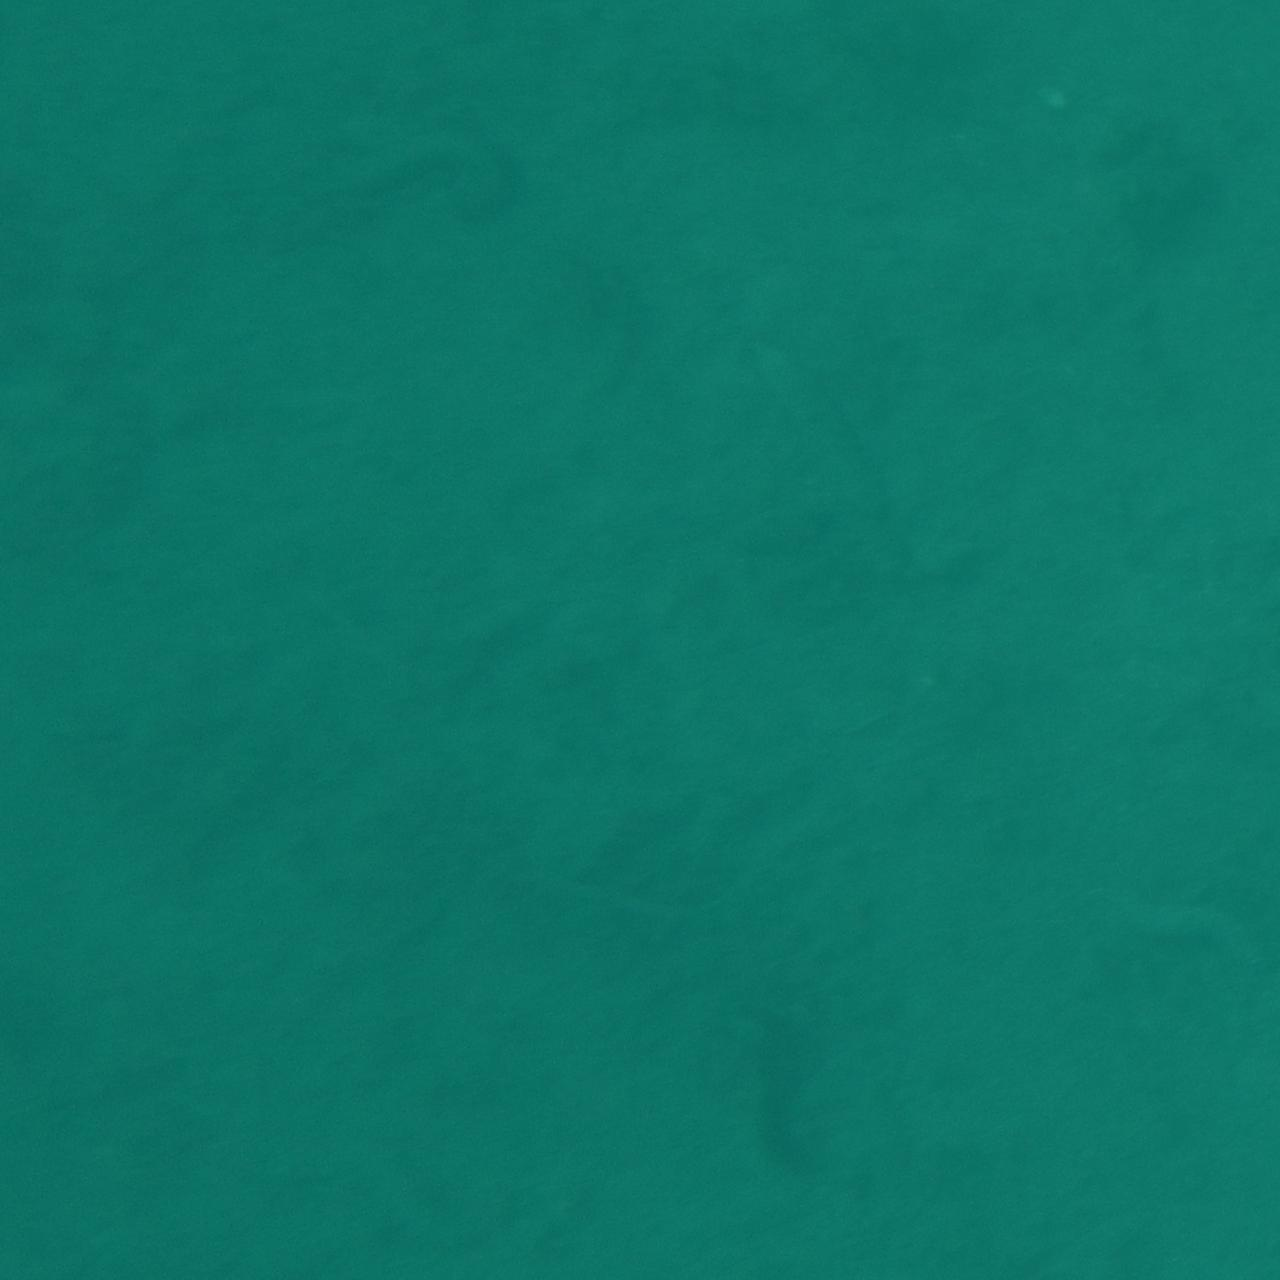Holothuria tubulosa: (245, 105, 529, 243), (690, 988, 850, 1226)
